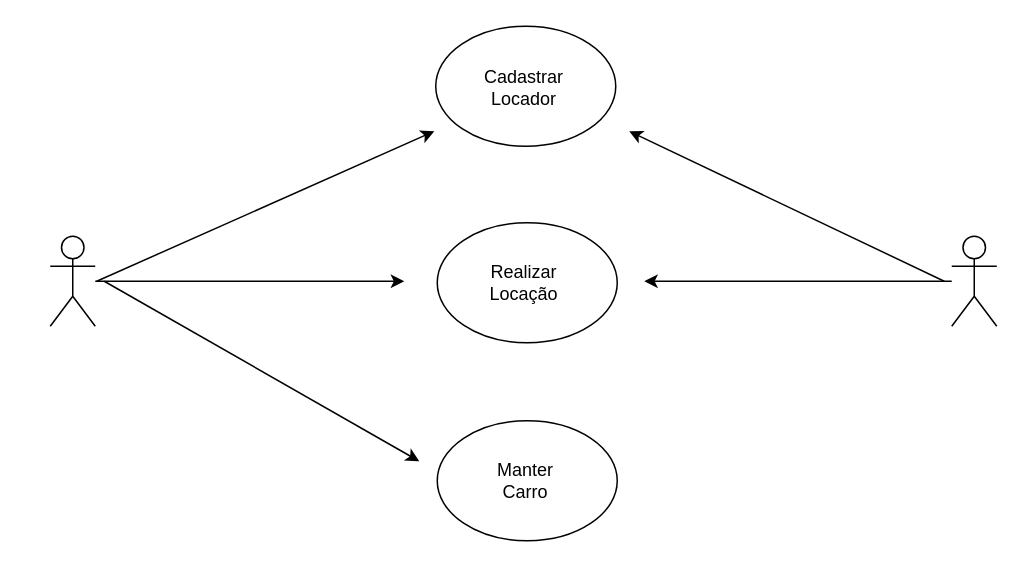
The diagram is 1032 pixels wide and 567 high, and some of its shapes have lost their labels. Here are the shapes that lost their labels. From the top down, the box of each, then its label:
(49, 235, 95, 326): Funcionario
(950, 235, 997, 326): Locador
